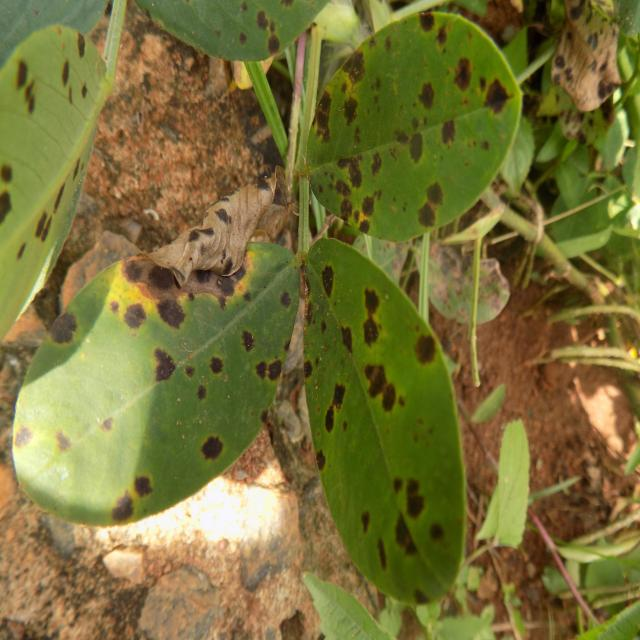Ground nut_tikka leaf spot: (10, 179, 302, 530), (298, 232, 471, 610), (309, 8, 519, 236)
